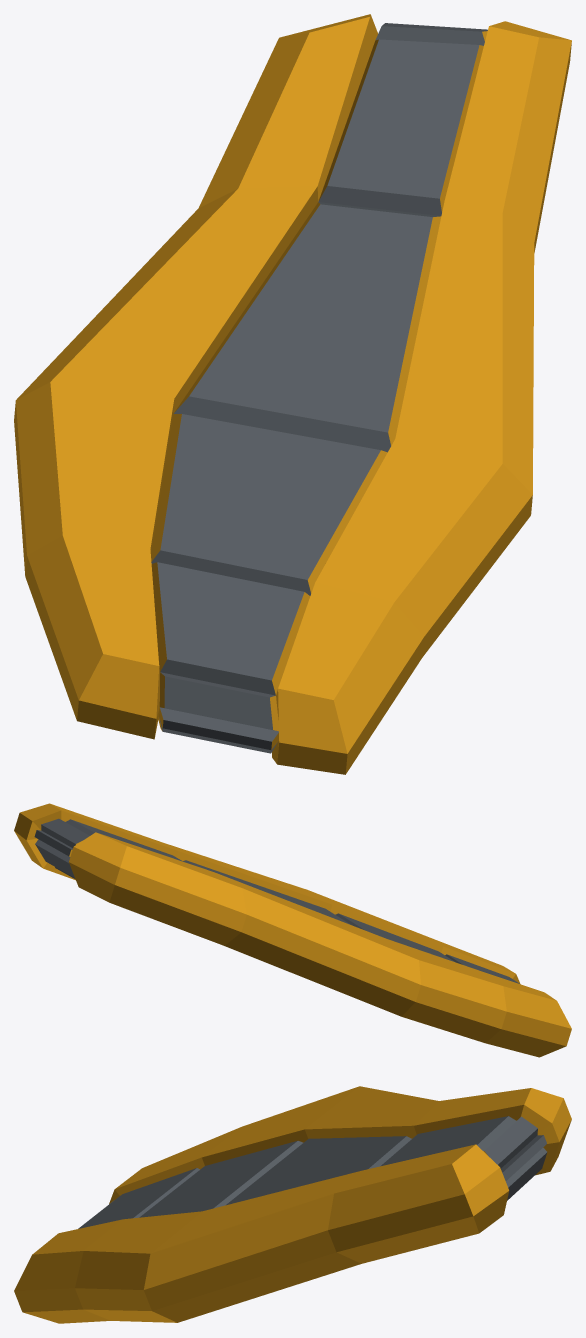
File: Fighter_03_Left_Fin_Yellow.fbx
The picture shows the model from 3 angles, top to bottom: view 1: azimuth 30°, elevation 25°; view 2: azimuth 150°, elevation 25°; view 3: azimuth 270°, elevation 25°; orthographic projection. The views are drawn at different scales.
Parts seen in each view (by area): view 1: Fighter_03_Left_Fin_Yellow; view 2: Fighter_03_Left_Fin_Yellow; view 3: Fighter_03_Left_Fin_Yellow.
Part boxes in pixels (<box>): Fighter_03_Left_Fin_Yellow: <box>14,14,571,774</box>; Fighter_03_Left_Fin_Yellow: <box>14,803,571,1057</box>; Fighter_03_Left_Fin_Yellow: <box>14,1086,571,1323</box>.
Bounding box in the file's own units: 393 × 239 × 347.
1 material, 1 textured.
